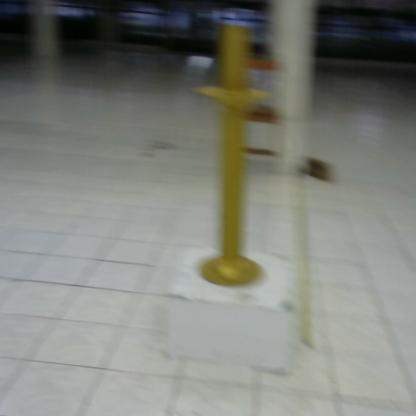pole: (196, 24, 276, 296)
